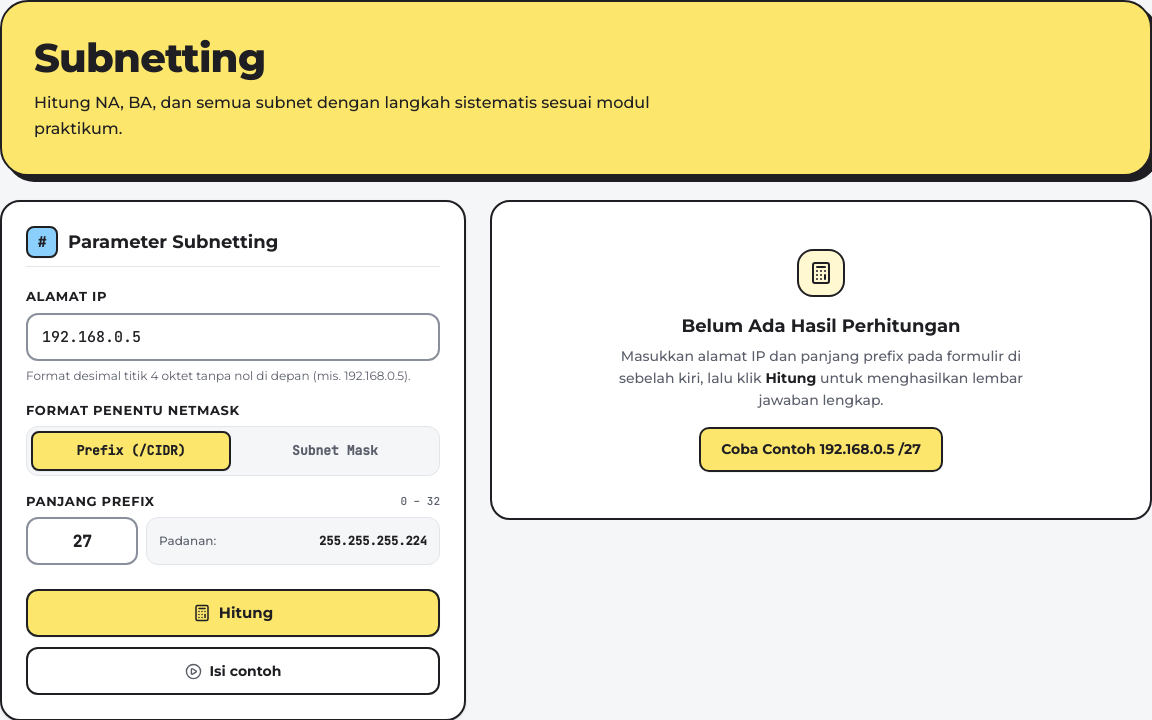
Halaman Subnetting › menjalankan perhitungan saat tombol Isi contoh diklik
This screenshot has width=1152, height=720.
Click the button "Isi contoh".
click(233, 671)  # box x1=26 y1=647 x2=440 y2=695
(page scrolled)
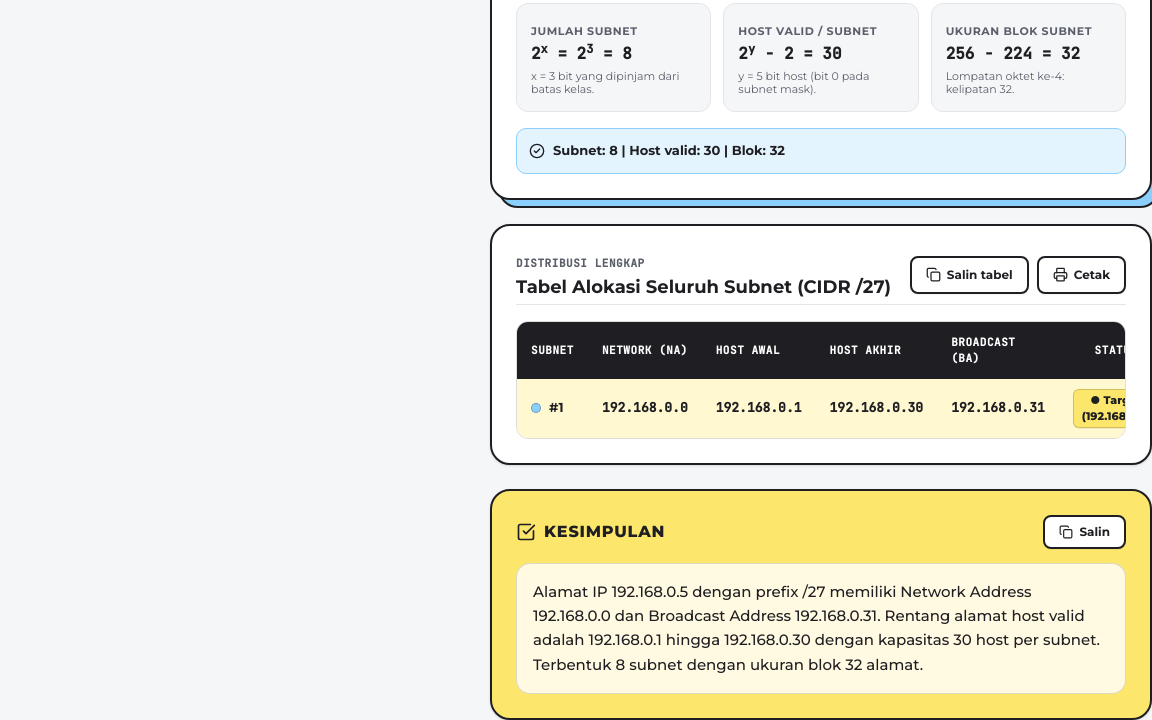
expect the heading "Kesimpulan" is shown: met, box x1=544 y1=520 x2=665 y2=544
expect the text "Terbentuk 8 subnet dengan ukuran blok 32 alamat" is shown: met, box x1=533 y1=582 x2=1100 y2=674
